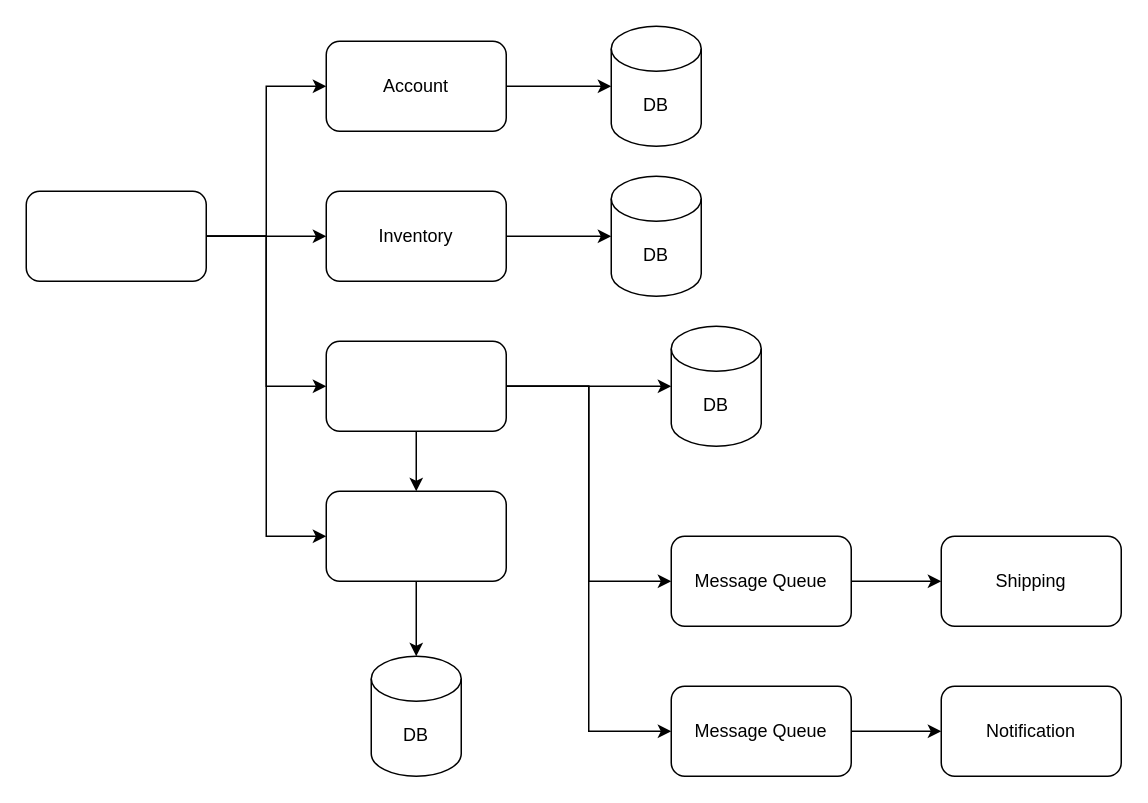
Some shapes in this 1148 by 803 pixel diagram are drawn without their labels. Each missing label, with the box of its shape:
API Gateway: (25, 190, 206, 281)
Order: (325, 340, 506, 431)
Payment: (325, 490, 506, 581)
